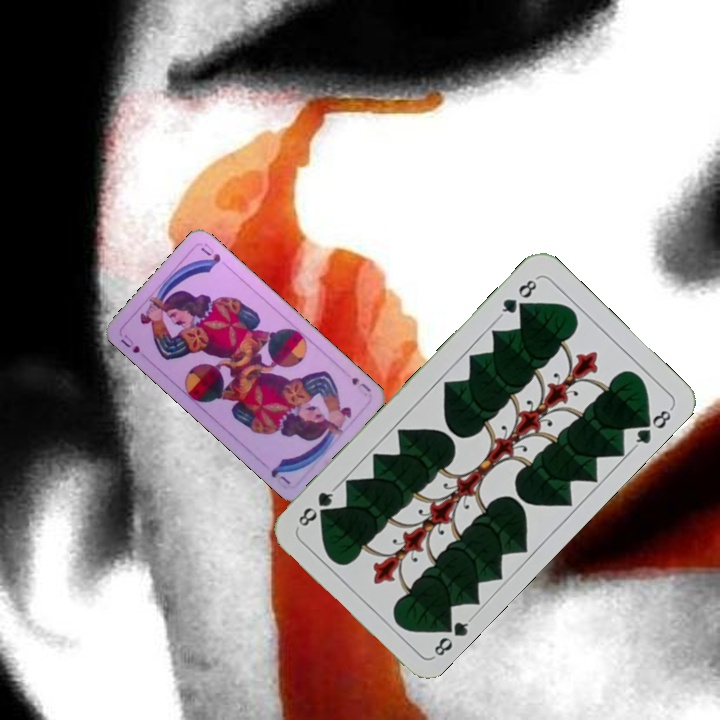G8: (495, 274, 541, 321), (430, 614, 475, 659)
SU: (347, 371, 374, 399), (116, 330, 143, 356)
